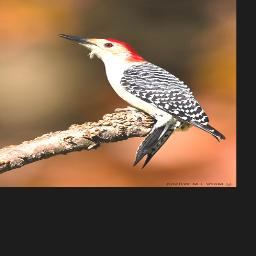Woodpecker: (57, 33, 229, 171)
